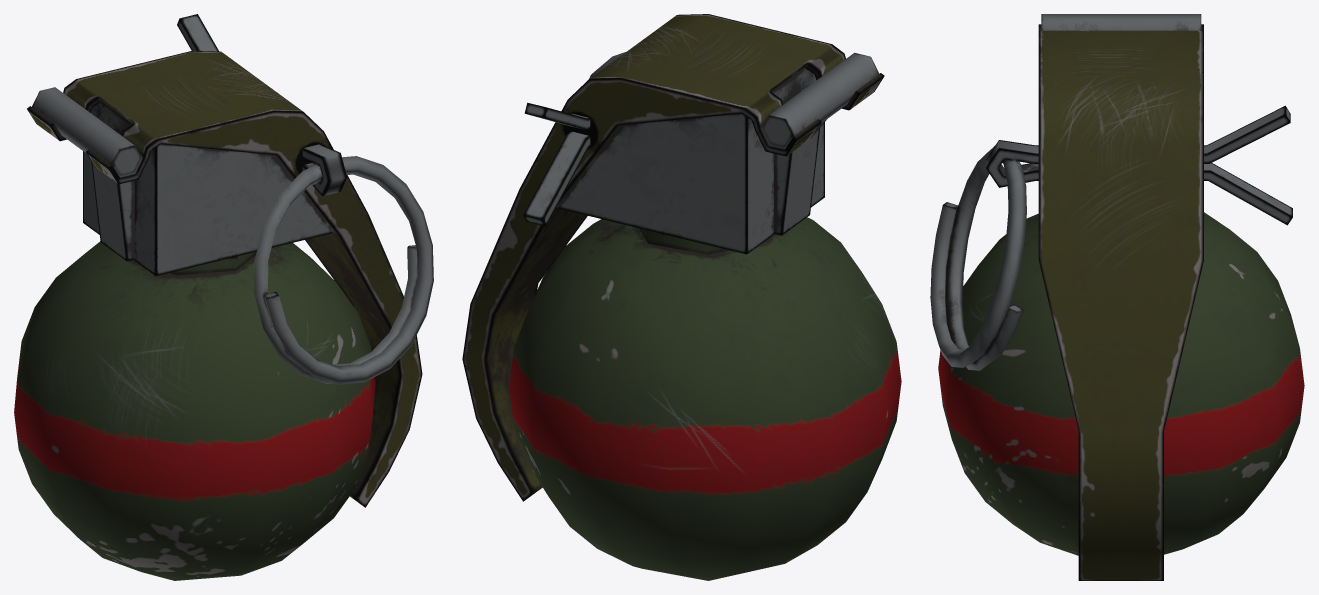
File: GrenadeFrag.fbx
The picture shows the model from 3 angles, left to right: view 1: azimuth 30°, elevation 25°; view 2: azimuth 150°, elevation 25°; view 3: azimuth 270°, elevation 25°; orthographic projection. The views are drawn at different scales.
Parts seen in each view (by area): view 1: GrenadeFrag; view 2: GrenadeFrag; view 3: GrenadeFrag.
Boxes of the visible parts, bbox=[...] form: GrenadeFrag: bbox=[14, 14, 433, 580]; GrenadeFrag: bbox=[462, 14, 901, 580]; GrenadeFrag: bbox=[930, 14, 1304, 580].
Bounding box in the file's own units: 7.96 × 9.92 × 7.06.
